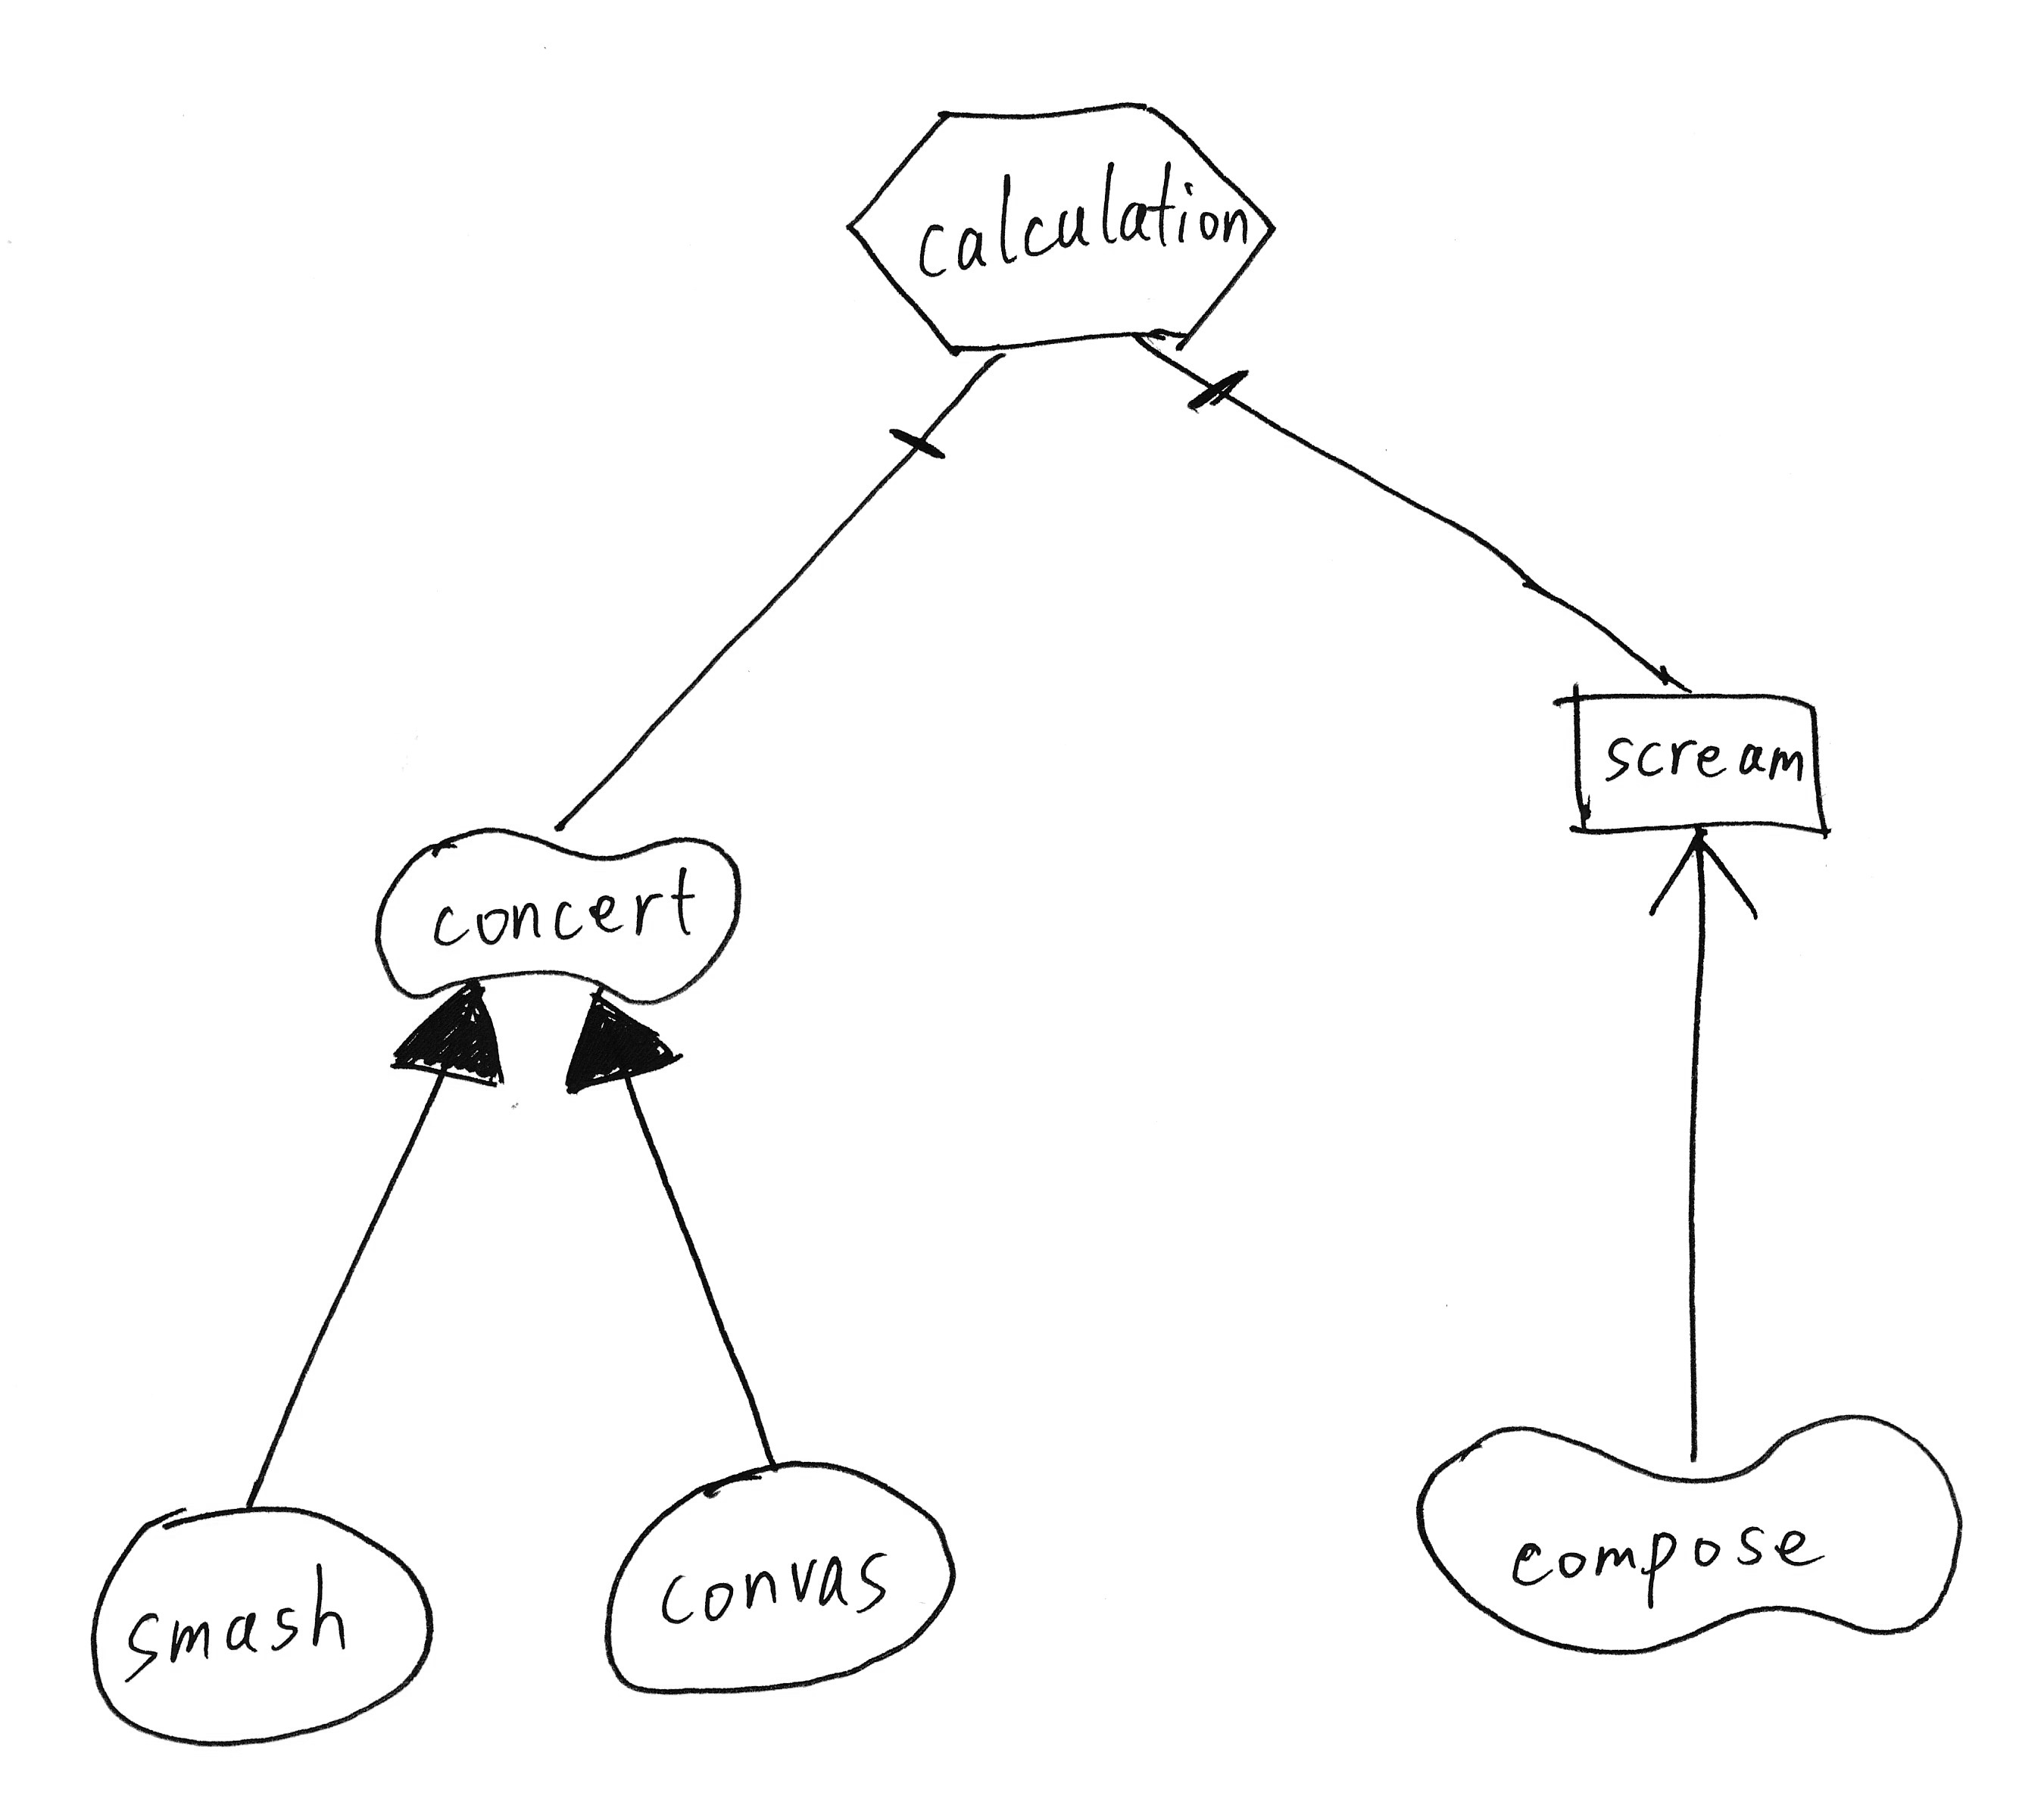actor: (67, 1485, 460, 1760)
and: (1111, 316, 1276, 442), (879, 347, 1019, 488)
arrow: (1639, 818, 1770, 937)
goal: (586, 1444, 981, 1713)
or: (386, 969, 516, 1107), (554, 976, 690, 1107)
quality: (1398, 1386, 1993, 1669), (354, 811, 758, 1016)
resource: (1532, 672, 1840, 858)
task: (833, 89, 1295, 372)
